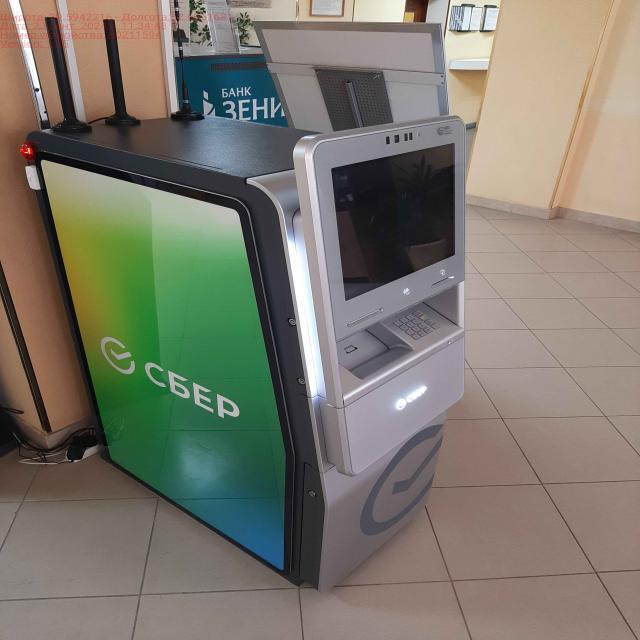bank: (34, 91, 473, 587)
